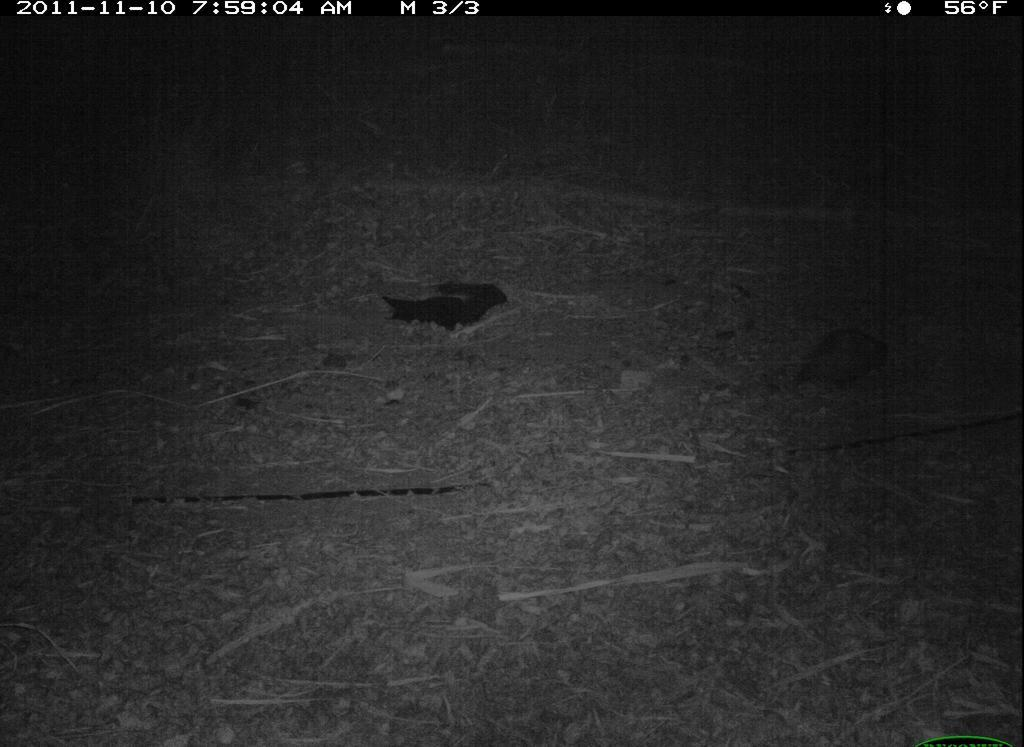opossum: (769, 312, 911, 410)
